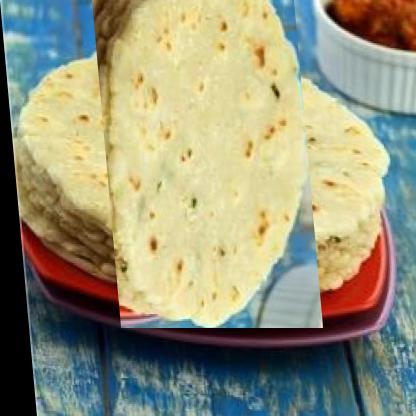roti: (51, 4, 356, 288)
